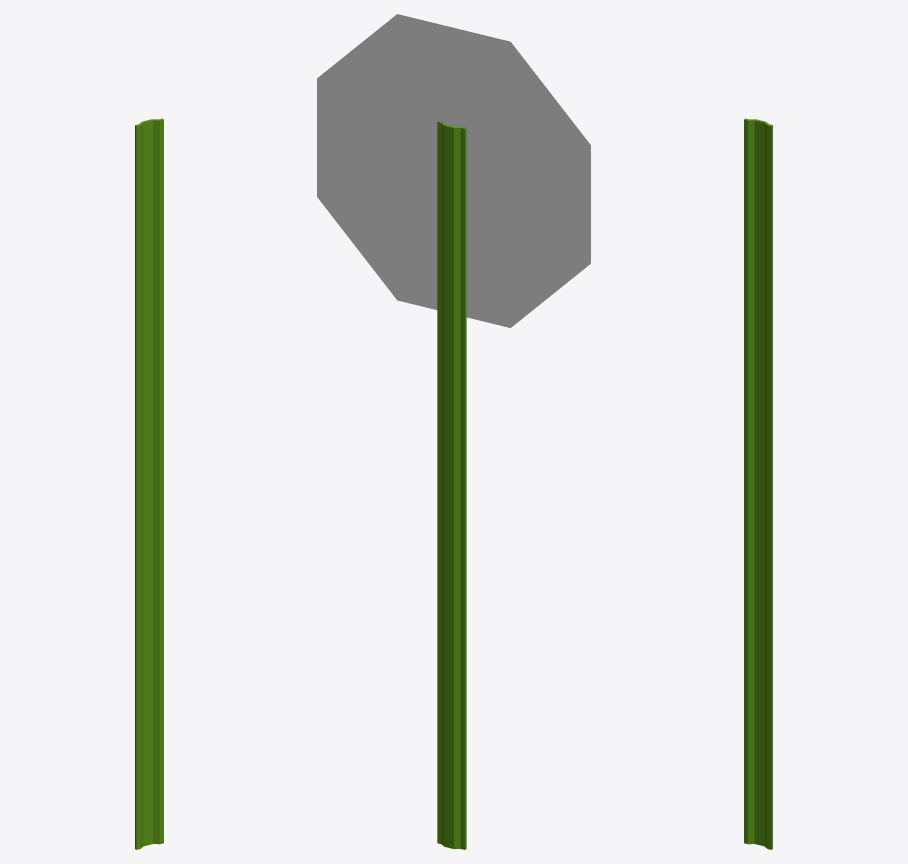
The model's file is stop-sign.glb.
3 renders of one model, left to right at view 1: azimuth 30°, elevation 25°; view 2: azimuth 150°, elevation 25°; view 3: azimuth 330°, elevation 25°, orthographic.
Parts seen in each view (by area): view 1: Extrude.3; view 2: Extrude, Extrude.3; view 3: Extrude.3.
Part boxes in pixels (x1,y1,x2,y2): Extrude.3: [135, 119, 163, 849]; Extrude: [317, 14, 590, 327]; Extrude.3: [437, 122, 466, 849]; Extrude.3: [744, 119, 772, 849].
Size of the model in its own units: 123 by 351 by 4.26.
